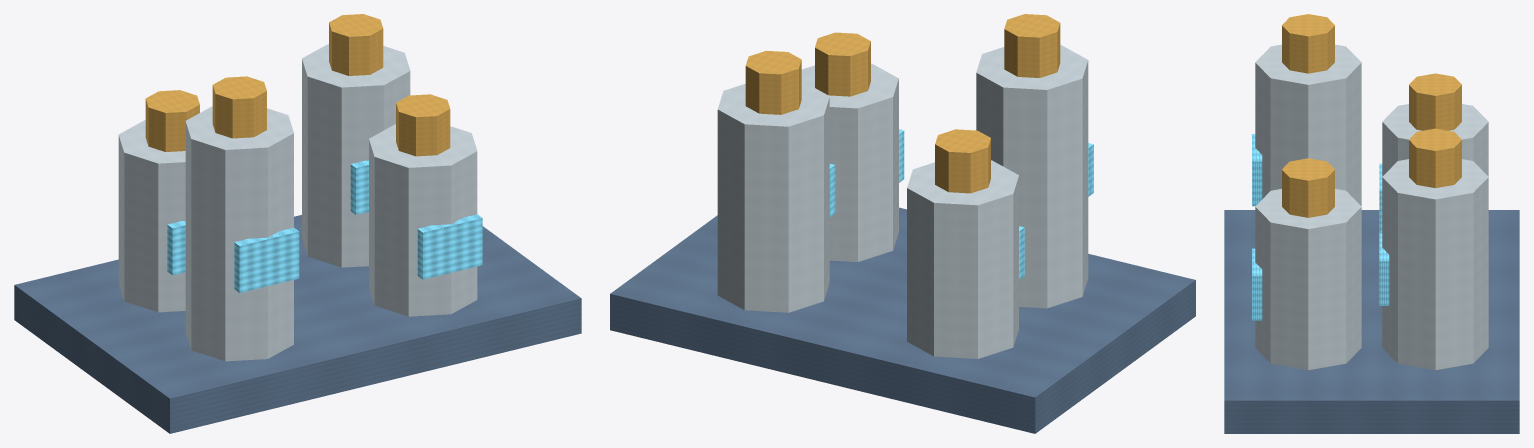
Rendered from atlas100-s054-a04.glb.
3 views of the same model, side by side, from view 1: azimuth 30°, elevation 25°; view 2: azimuth 150°, elevation 25°; view 3: azimuth 270°, elevation 25° (orthographic). The views are drawn at different scales.
Parts seen in each view (by area): view 1: atlas100-s054-a04:part-000, atlas100-s054-a04:part-007, atlas100-s054-a04:part-010, atlas100-s054-a04:part-004, atlas100-s054-a04:part-001, atlas100-s054-a04:part-009, atlas100-s054-a04:part-012, atlas100-s054-a04:part-008, atlas100-s054-a04:part-011, atlas100-s054-a04:part-005, atlas100-s054-a04:part-002, atlas100-s054-a04:part-003 (+1 smaller); view 2: atlas100-s054-a04:part-000, atlas100-s054-a04:part-004, atlas100-s054-a04:part-007, atlas100-s054-a04:part-001, atlas100-s054-a04:part-010, atlas100-s054-a04:part-005, atlas100-s054-a04:part-008, atlas100-s054-a04:part-002, atlas100-s054-a04:part-011; view 3: atlas100-s054-a04:part-000, atlas100-s054-a04:part-004, atlas100-s054-a04:part-010, atlas100-s054-a04:part-007, atlas100-s054-a04:part-001, atlas100-s054-a04:part-011, atlas100-s054-a04:part-008, atlas100-s054-a04:part-005, atlas100-s054-a04:part-002, atlas100-s054-a04:part-012, atlas100-s054-a04:part-006, atlas100-s054-a04:part-009.
Boxes of the visible parts, bbox=[...] form: atlas100-s054-a04:part-000: bbox=[14, 215, 581, 433]; atlas100-s054-a04:part-007: bbox=[185, 106, 293, 361]; atlas100-s054-a04:part-010: bbox=[369, 124, 477, 316]; atlas100-s054-a04:part-004: bbox=[302, 44, 410, 267]; atlas100-s054-a04:part-001: bbox=[118, 120, 185, 312]; atlas100-s054-a04:part-009: bbox=[234, 227, 299, 292]; atlas100-s054-a04:part-012: bbox=[417, 214, 482, 279]; atlas100-s054-a04:part-008: bbox=[212, 76, 266, 138]; atlas100-s054-a04:part-011: bbox=[396, 94, 450, 156]; atlas100-s054-a04:part-005: bbox=[329, 14, 383, 75]; atlas100-s054-a04:part-002: bbox=[145, 90, 199, 151]; atlas100-s054-a04:part-003: bbox=[167, 221, 185, 275]; atlas100-s054-a04:part-000: bbox=[610, 207, 1195, 433]; atlas100-s054-a04:part-004: bbox=[717, 81, 829, 312]; atlas100-s054-a04:part-007: bbox=[976, 45, 1088, 308]; atlas100-s054-a04:part-001: bbox=[907, 160, 1018, 358]; atlas100-s054-a04:part-010: bbox=[801, 63, 898, 261]; atlas100-s054-a04:part-005: bbox=[745, 50, 801, 114]; atlas100-s054-a04:part-008: bbox=[1004, 14, 1060, 77]; atlas100-s054-a04:part-002: bbox=[935, 129, 990, 193]; atlas100-s054-a04:part-011: bbox=[815, 32, 870, 96]; atlas100-s054-a04:part-000: bbox=[1224, 210, 1519, 433]; atlas100-s054-a04:part-004: bbox=[1382, 159, 1488, 370]; atlas100-s054-a04:part-010: bbox=[1255, 189, 1361, 370]; atlas100-s054-a04:part-007: bbox=[1255, 44, 1361, 205]; atlas100-s054-a04:part-001: bbox=[1382, 104, 1488, 176]; atlas100-s054-a04:part-011: bbox=[1282, 158, 1334, 217]; atlas100-s054-a04:part-008: bbox=[1282, 14, 1334, 73]; atlas100-s054-a04:part-005: bbox=[1409, 128, 1461, 187]; atlas100-s054-a04:part-002: bbox=[1409, 73, 1461, 130]; atlas100-s054-a04:part-012: bbox=[1252, 248, 1262, 320]; atlas100-s054-a04:part-006: bbox=[1379, 233, 1389, 305]; atlas100-s054-a04:part-009: bbox=[1252, 134, 1262, 206].
Bounding box in the file's own units: 1.18 × 0.7804 × 0.7697.
Materials: 4 (4 with a texture image).
